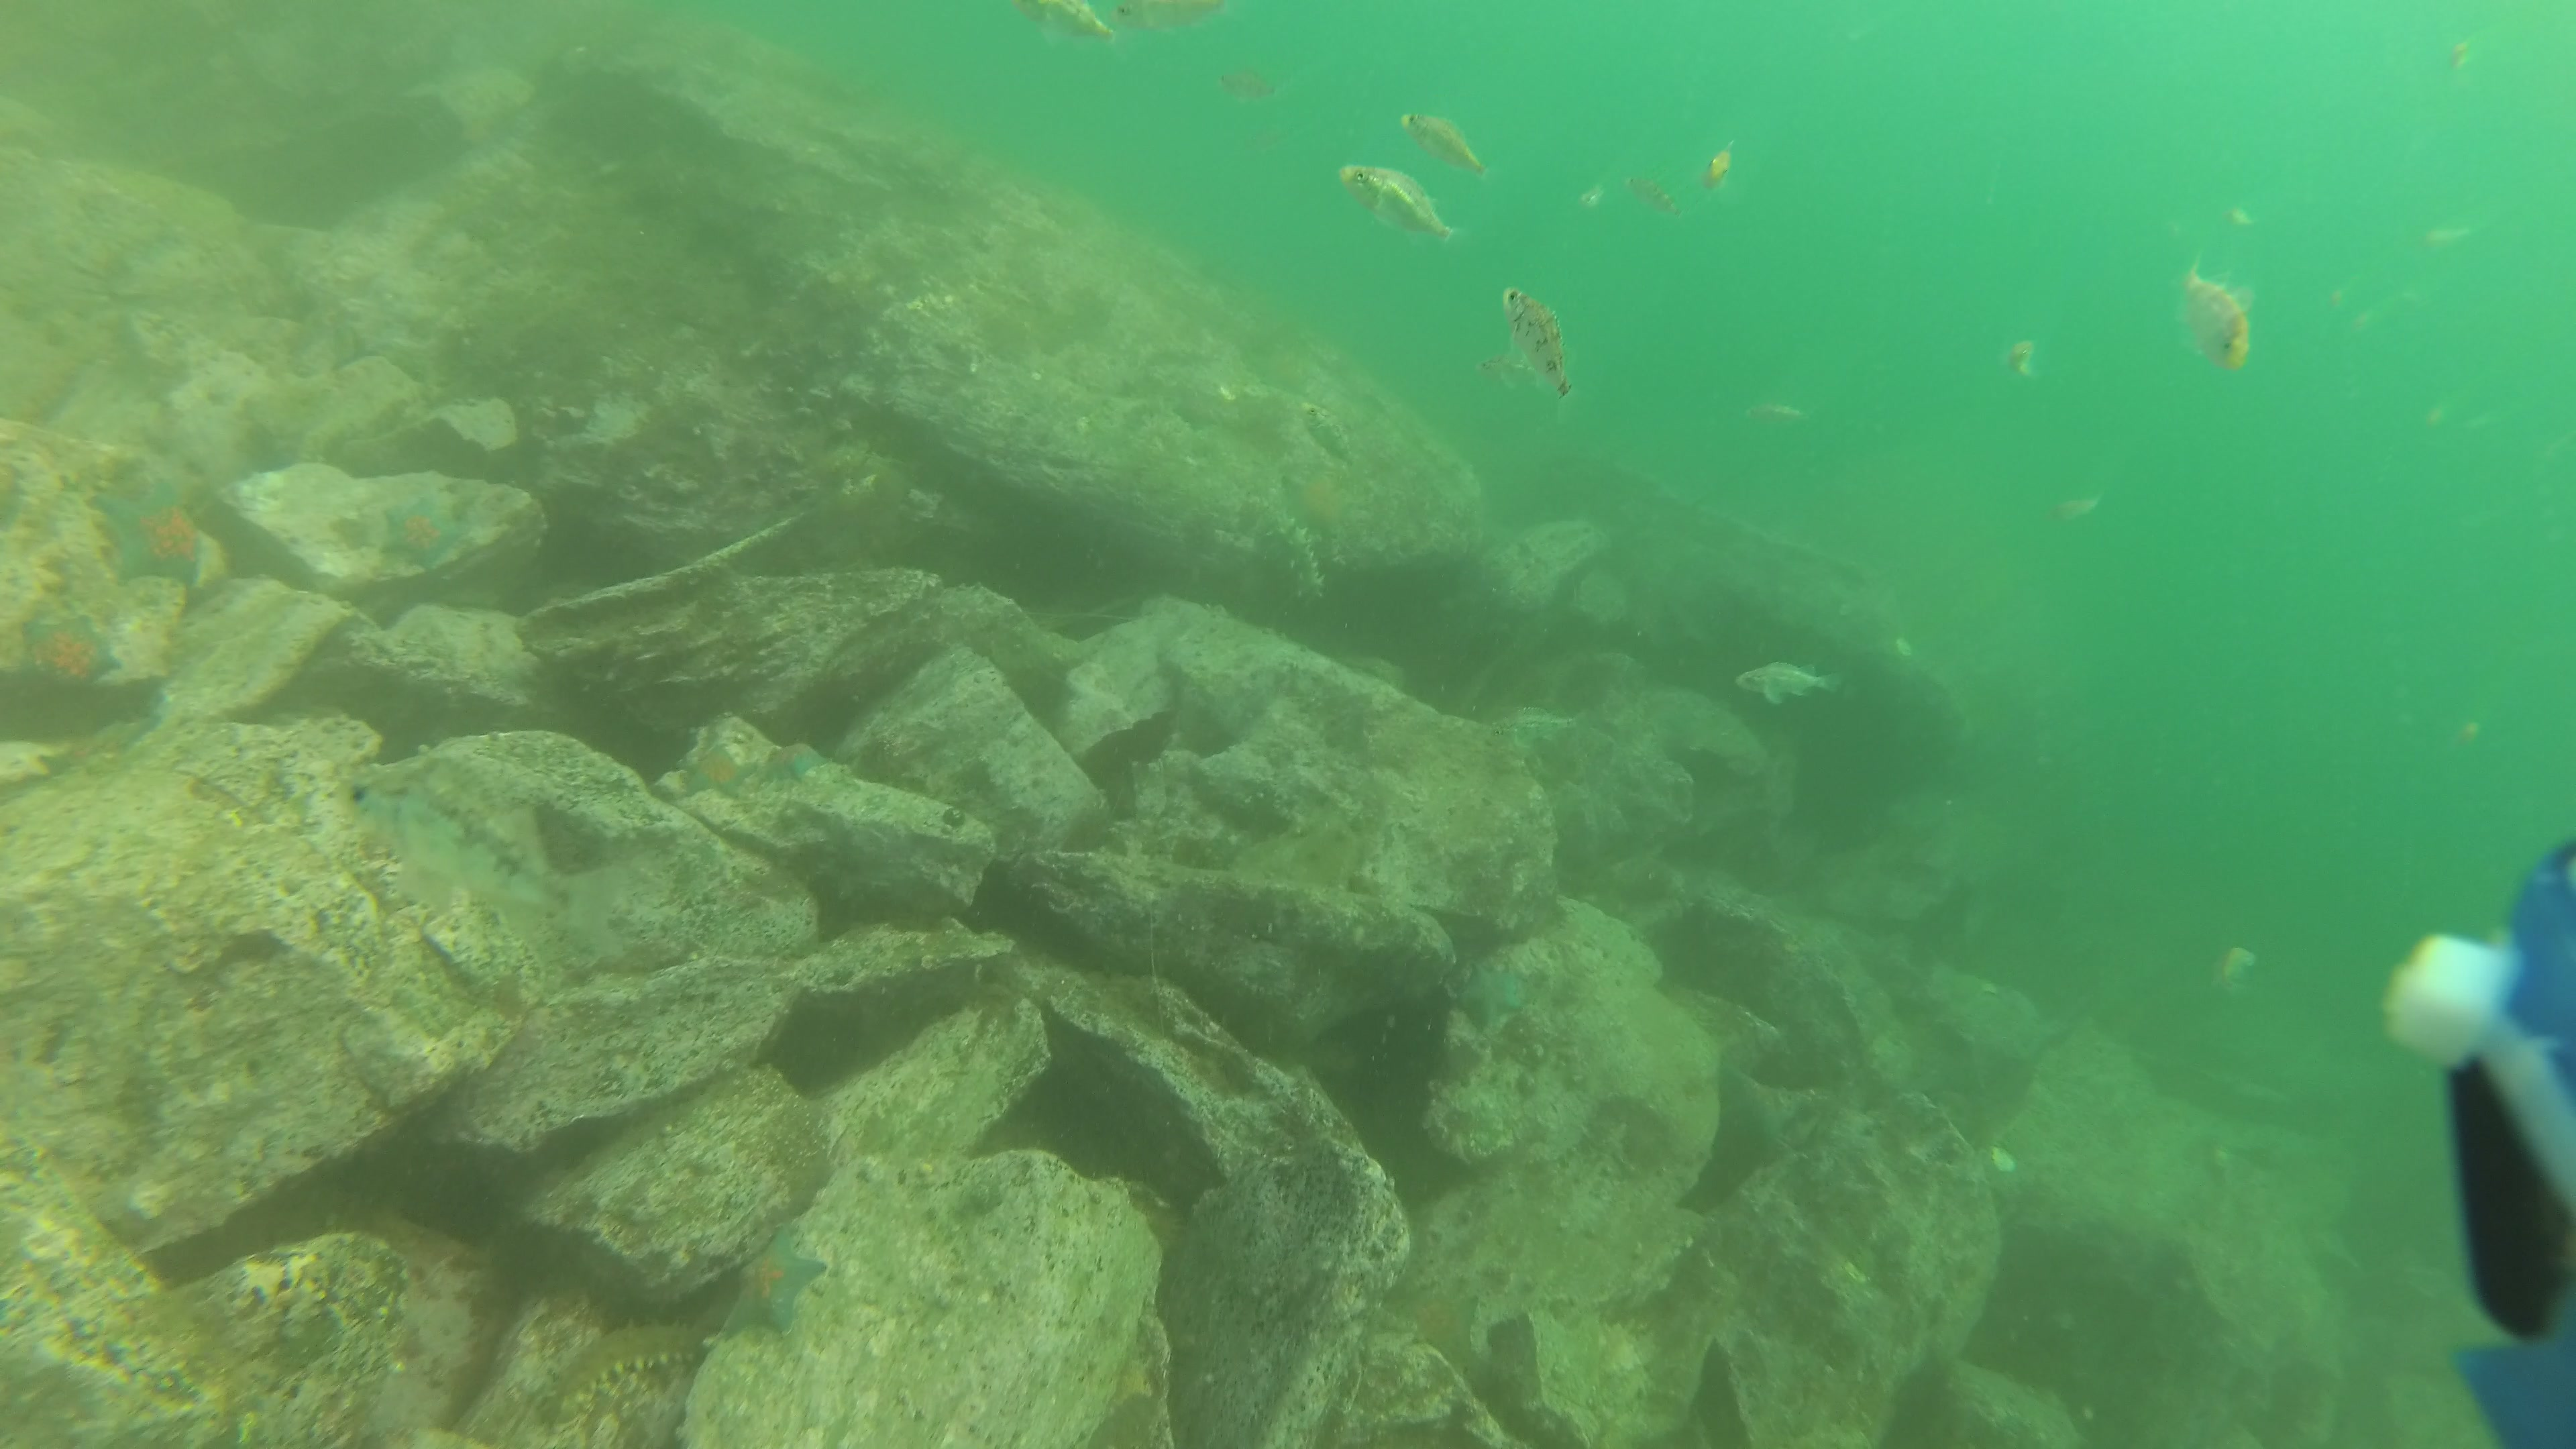holothurian: (527, 1316, 718, 1428), (1258, 501, 1330, 610)
starfish: (83, 472, 212, 596), (715, 1219, 830, 1345), (14, 609, 127, 699), (375, 490, 469, 577), (1405, 1283, 1484, 1368), (1447, 957, 1527, 1037), (678, 738, 757, 809), (754, 738, 839, 791)
